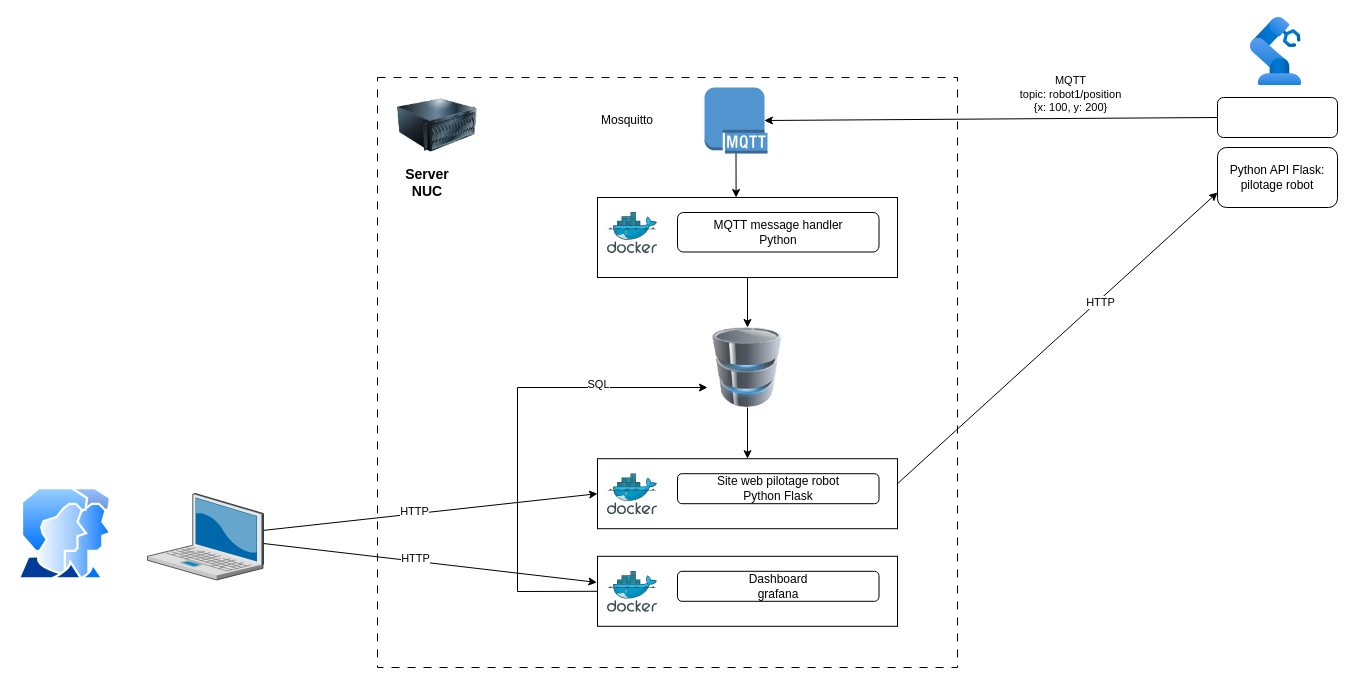
Some shapes in this 1355 by 685 pixel diagram are drawn without their labels. The shapes that lost their labels are listed below. From the top down, each one's centre as x and y in pixels, then its label:
At point (1277, 117): "client MQTT".
At point (747, 367): "Database SQL".
